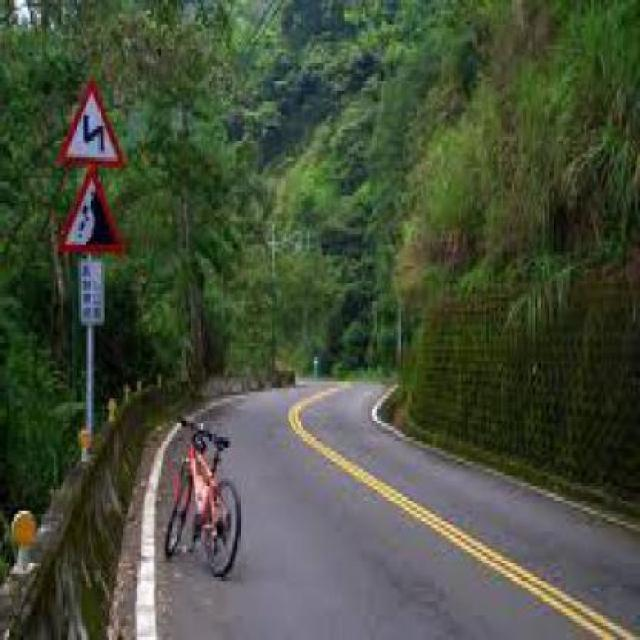warn_double_curve: (56, 73, 129, 175)
